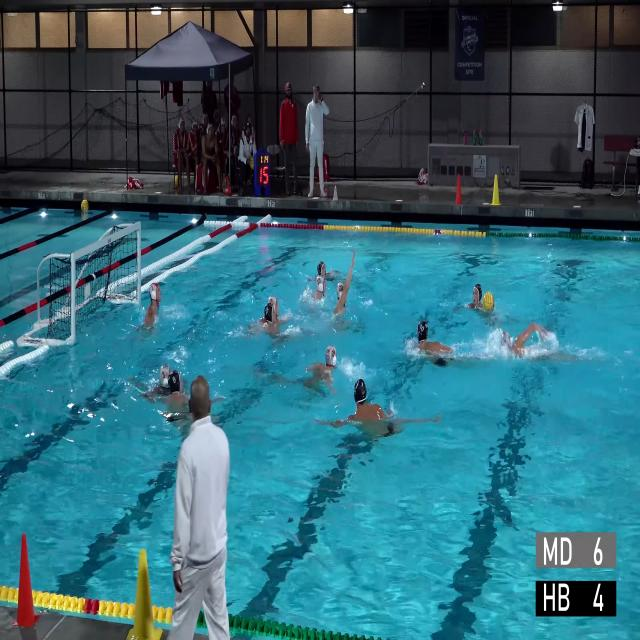ball: (482, 292, 494, 311), (81, 199, 89, 212), (250, 156, 254, 170)
